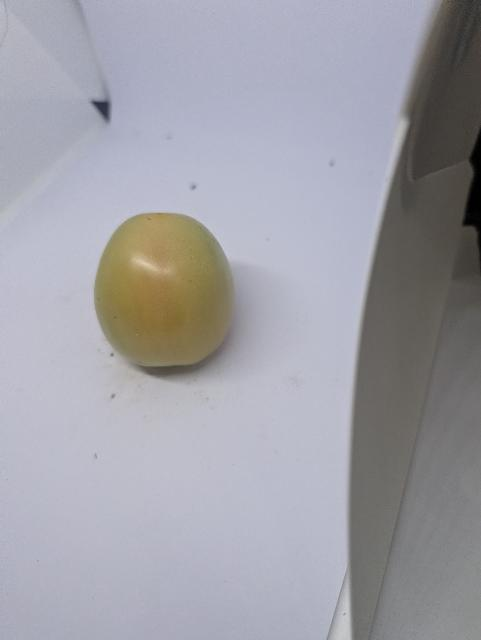breaker: (91, 212, 240, 369)
